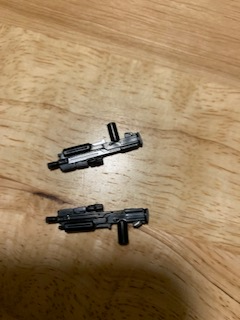rifle: (46, 120, 145, 180), (44, 201, 149, 247)
